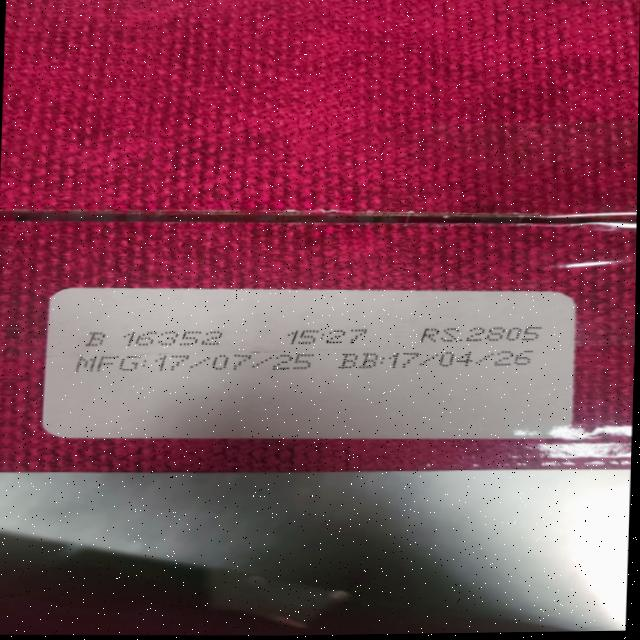BB: (344, 348, 532, 370)
Batch: (84, 325, 236, 351)
MFG: (71, 351, 324, 376)
RS: (413, 324, 547, 345)
TimeStamp: (284, 326, 378, 349)
